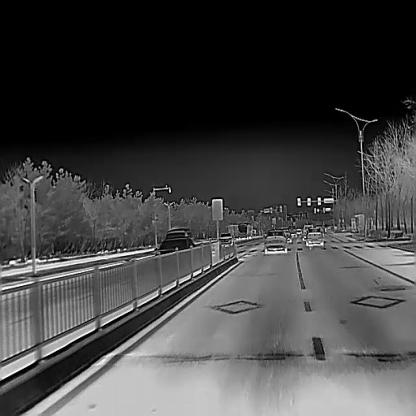bus: (236, 221, 252, 239)
car: (153, 226, 195, 272), (263, 228, 288, 254), (305, 227, 323, 247), (217, 231, 235, 246), (302, 222, 313, 240), (279, 228, 292, 242), (314, 224, 326, 233), (288, 224, 296, 236), (295, 227, 302, 235)
